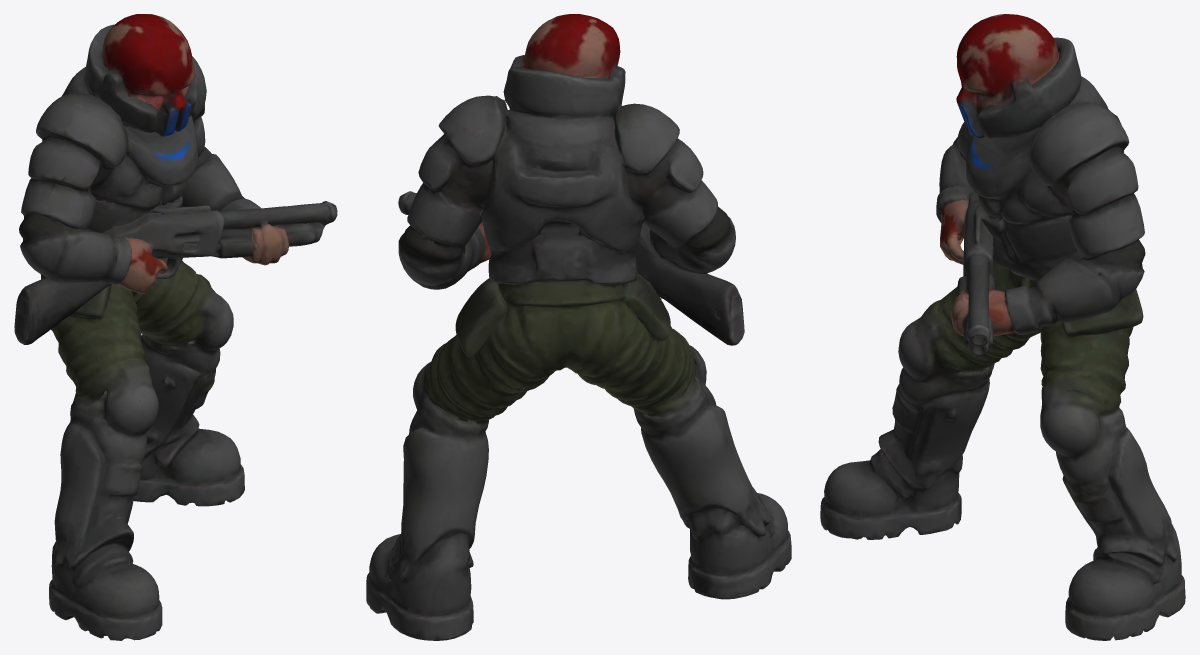
File: SPOSE1_2026-08-14T135133.887.glb
3 renders of one model, left to right at view 1: azimuth 30°, elevation 25°; view 2: azimuth 150°, elevation 25°; view 3: azimuth 270°, elevation 25°, orthographic. The views are drawn at different scales.
Parts seen in each view (by area): view 1: world; view 2: world; view 3: world.
Boxes of the visible parts, x1,y1,x2,y2 form: world: (14, 14, 337, 640); world: (366, 14, 791, 640); world: (820, 14, 1185, 640).
Size of the model in its own units: 0.623 by 1 by 0.6016.
1 material, 1 textured.
